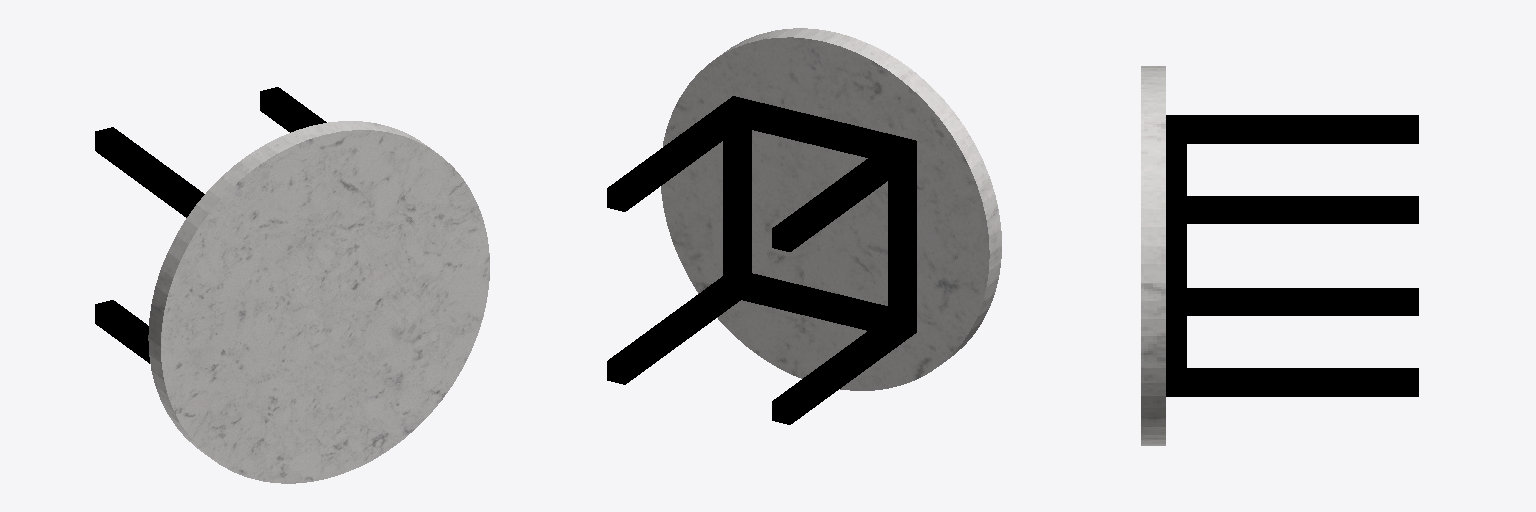
The picture shows the model from 3 angles: view 1: azimuth 30°, elevation 25°; view 2: azimuth 150°, elevation 25°; view 3: azimuth 270°, elevation 25°; orthographic projection.
Visible parts, largest first — view 1: legs_Cube.003; view 2: legs_Cube.003; view 3: legs_Cube.003.
Boxes of the visible parts, <box> form: legs_Cube.003: <box>95,87,489,483</box>; legs_Cube.003: <box>607,28,1001,424</box>; legs_Cube.003: <box>1141,66,1418,445</box>.
Size of the model in its own units: 320 by 320 by 234.
2 materials, 2 textured.